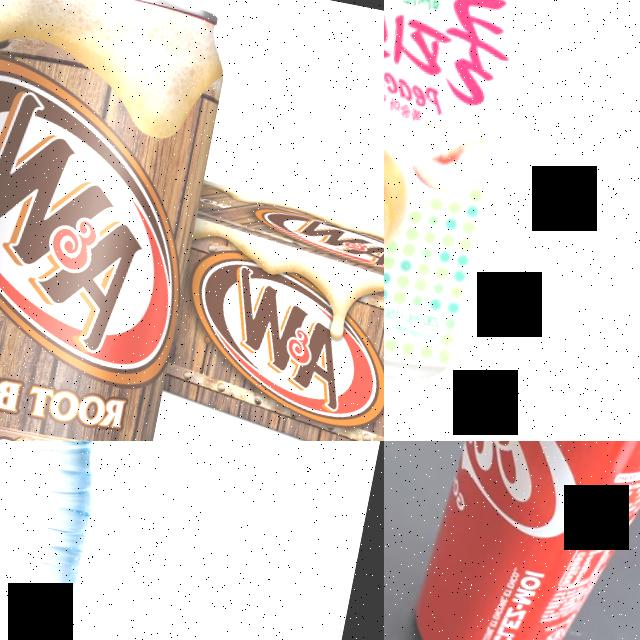bottle: (0, 441, 182, 640)
can: (0, 0, 237, 441), (384, 0, 550, 399), (392, 441, 640, 640)
